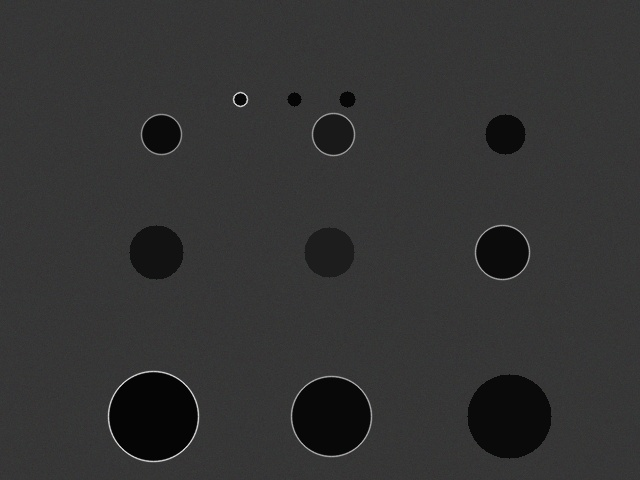hole: (108, 371, 198, 461), (467, 374, 551, 458), (291, 376, 371, 456), (129, 225, 183, 279), (475, 225, 529, 279), (304, 227, 354, 277), (312, 113, 354, 155), (141, 114, 181, 154), (485, 114, 525, 154), (339, 91, 355, 107), (233, 92, 247, 106), (287, 92, 301, 106)
